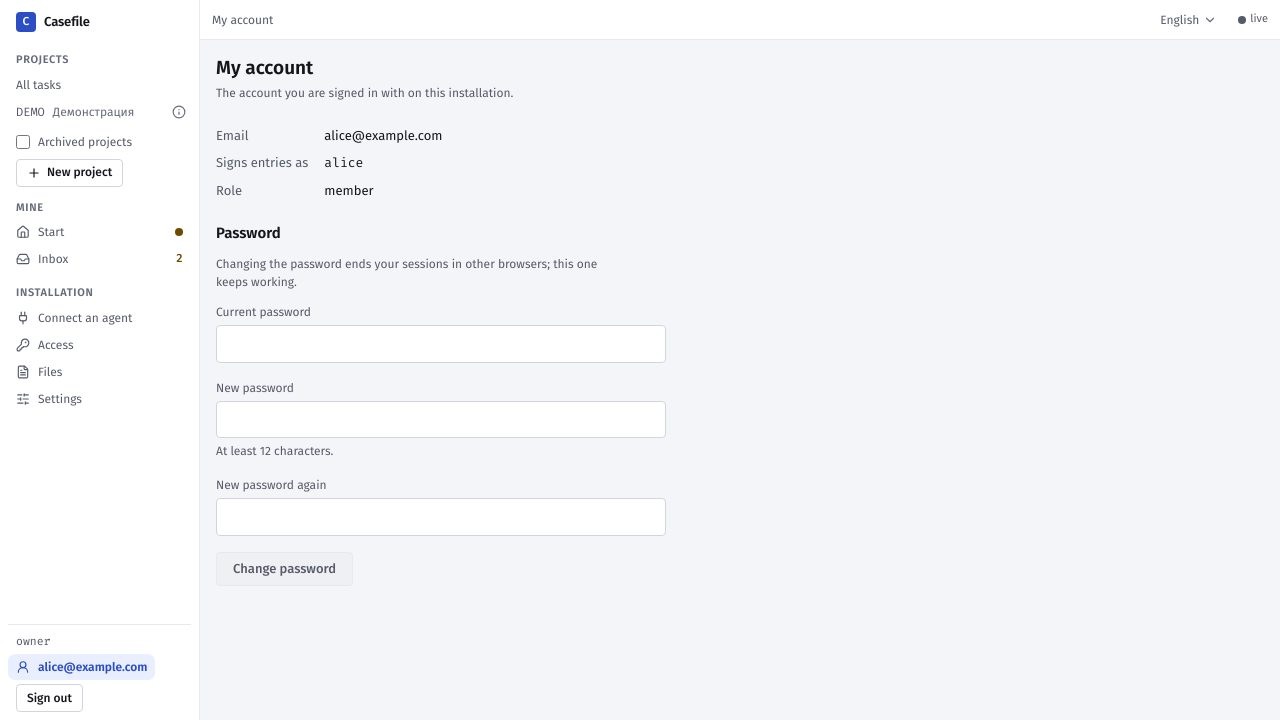
Test case: экран «Моя учётная запись» › неверный прежний пароль — отказ словами словаря
Step 1. Type "wrong password 12" into the password field labelled "Current password" → (441, 344), box [216,325,666,362]
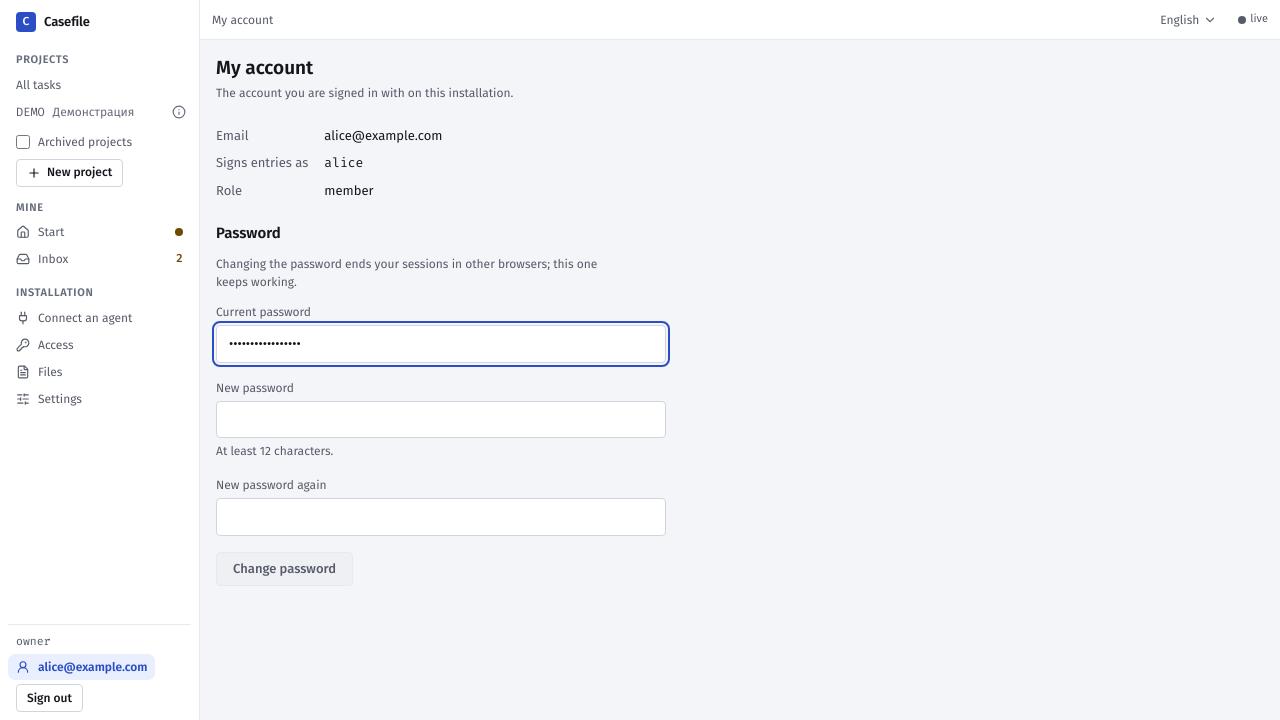
Step 2. Type "new password 1234" into the password field labelled "New password" → (441, 419), box [216,400,666,438]
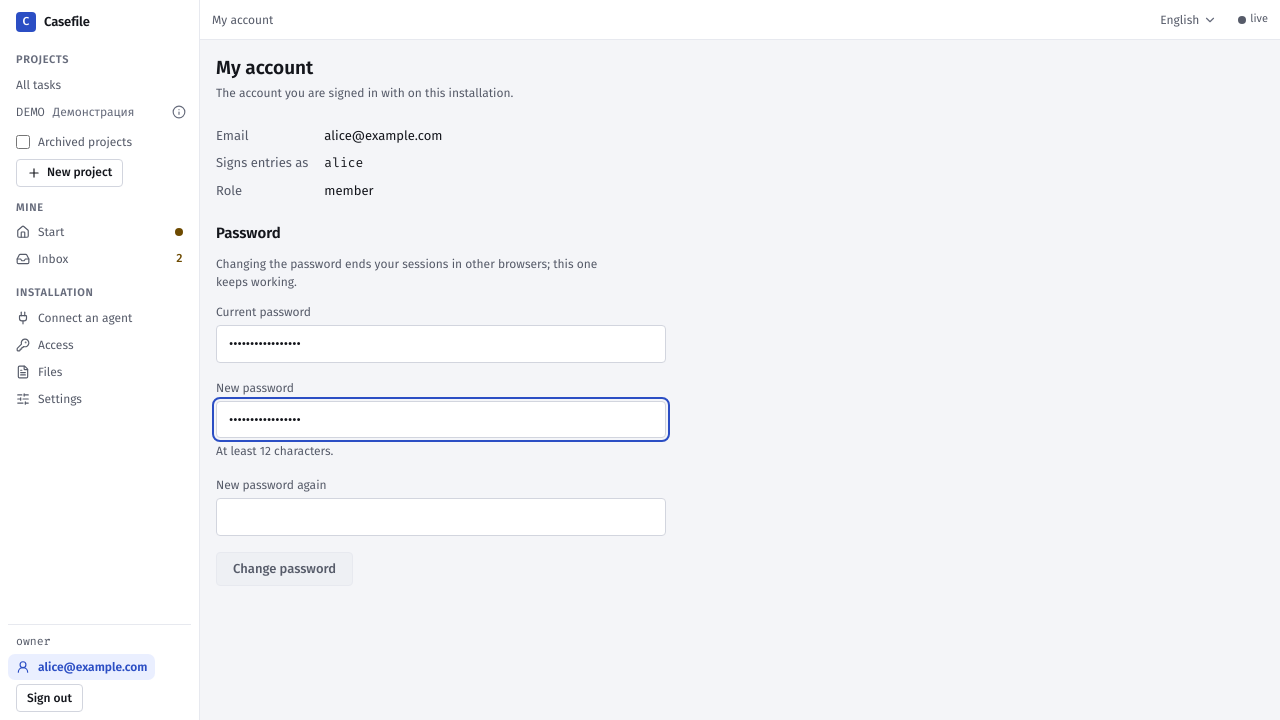
Step 3. Type "new password 1234" into the password field labelled "New password again" → (441, 517), box [216,498,666,536]
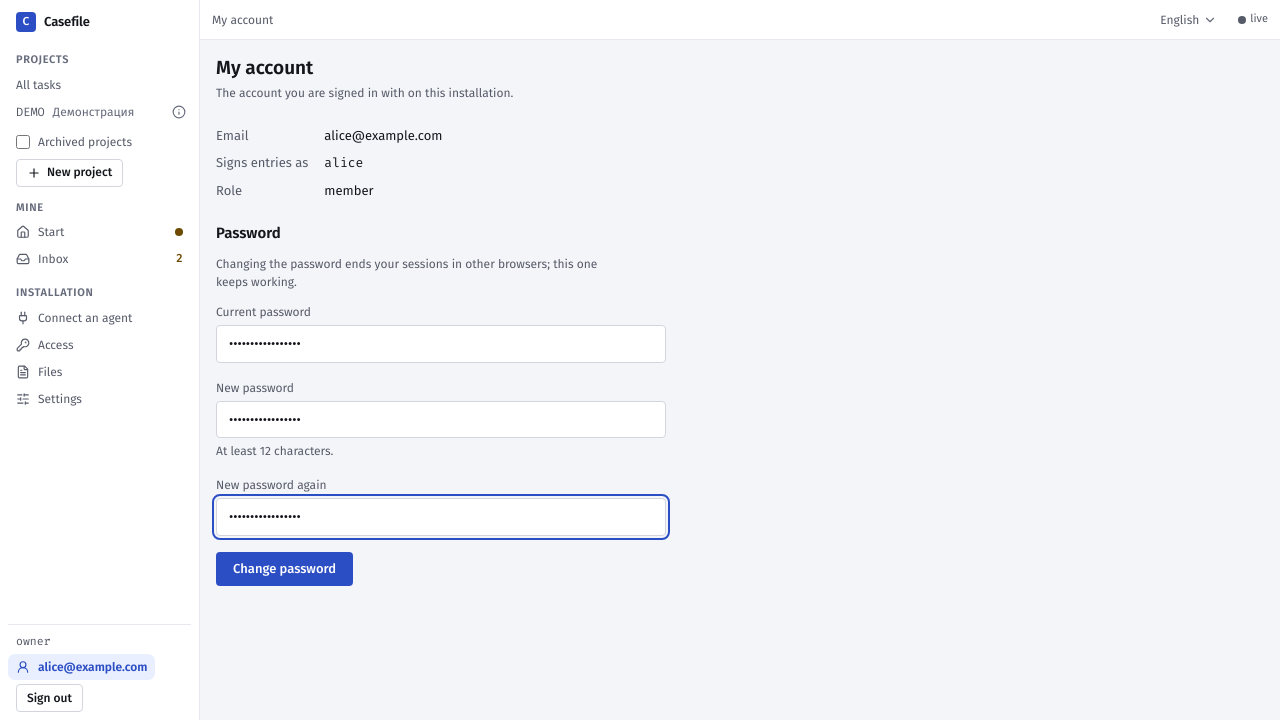
Step 4. Click the button "Change password" → (284, 568), box [216,552,353,586]
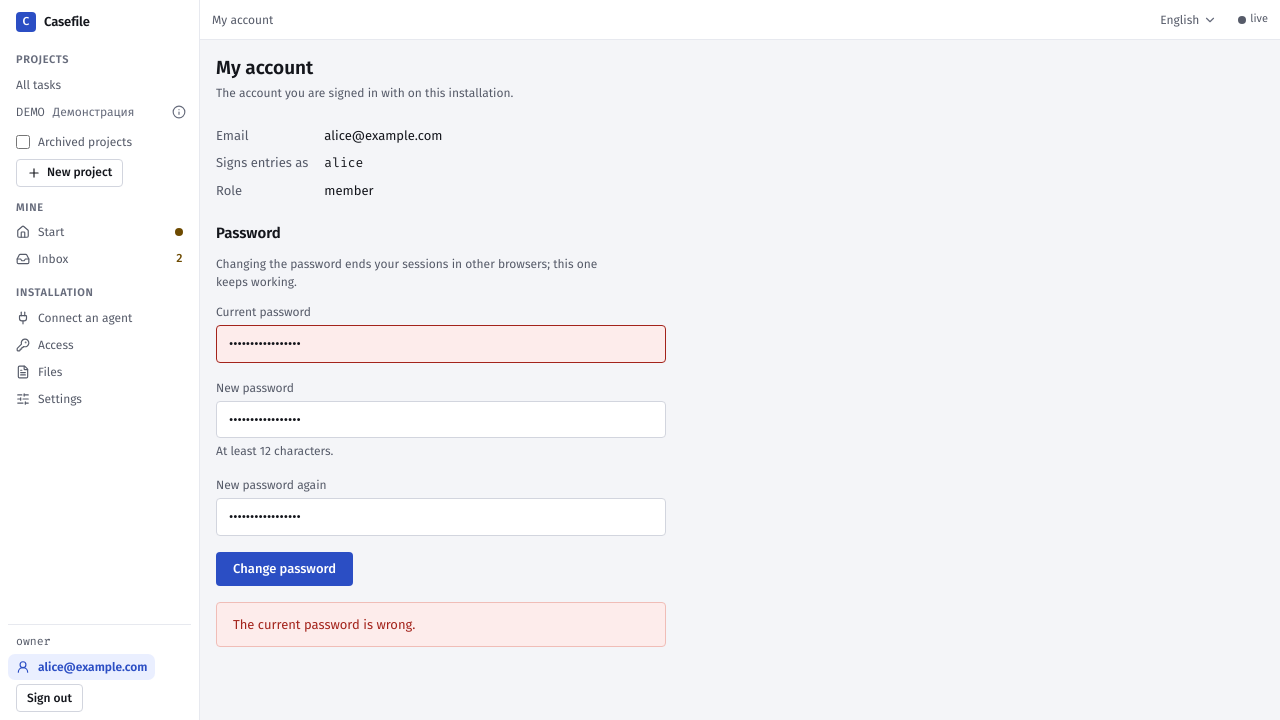
Result: the message "The current password is wrong." is shown at [216,602,666,647]
